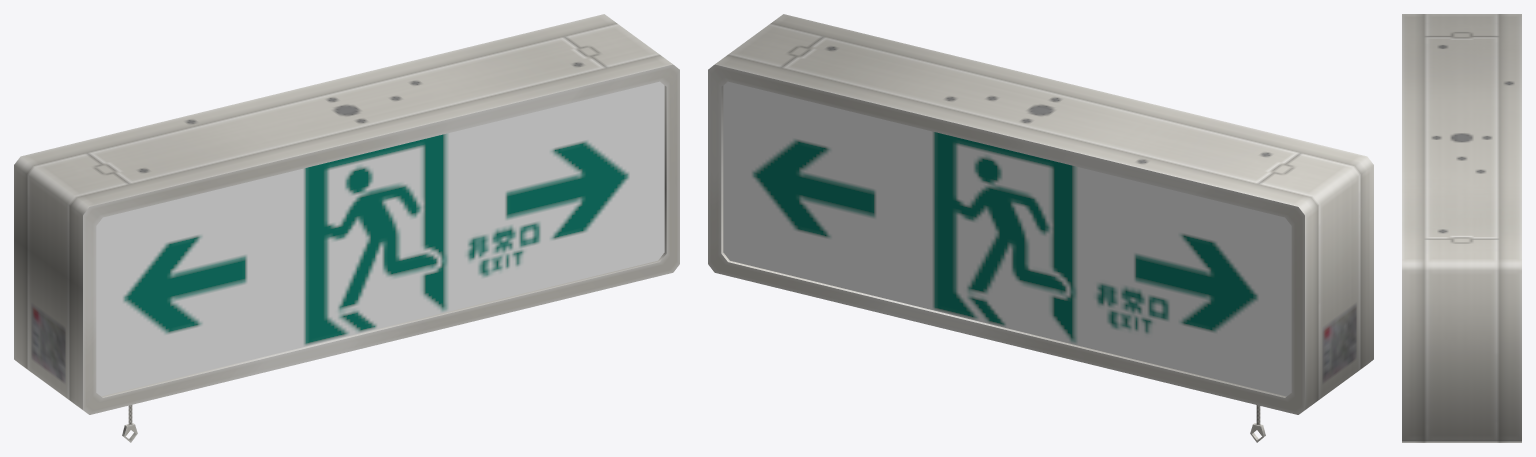
Rendered from SHW_Exitlight_01_16.fbx.
3 views of the same model, side by side, from view 1: azimuth 30°, elevation 25°; view 2: azimuth 150°, elevation 25°; view 3: azimuth 270°, elevation 25° (orthographic). The views are drawn at different scales.
Parts seen in each view (by area): view 1: shw_exitlight_01_16; view 2: shw_exitlight_01_16; view 3: shw_exitlight_01_16.
Boxes of the visible parts, bbox=[...] form: shw_exitlight_01_16: bbox=[14, 14, 679, 442]; shw_exitlight_01_16: bbox=[708, 14, 1373, 442]; shw_exitlight_01_16: bbox=[1402, 14, 1521, 442].
Size of the model in its own units: 90 by 40.17 by 18.
